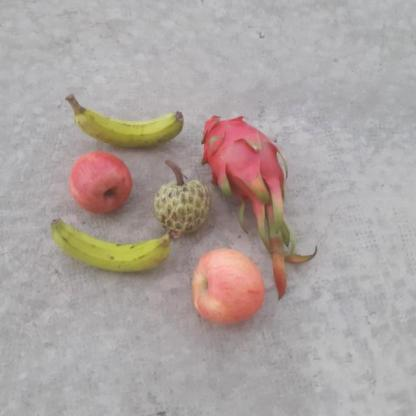annona: (155, 179, 213, 234)
apple: (192, 243, 268, 324), (64, 151, 136, 218)
banana: (49, 212, 177, 274), (63, 99, 185, 147)
pitaya: (196, 116, 292, 208)
